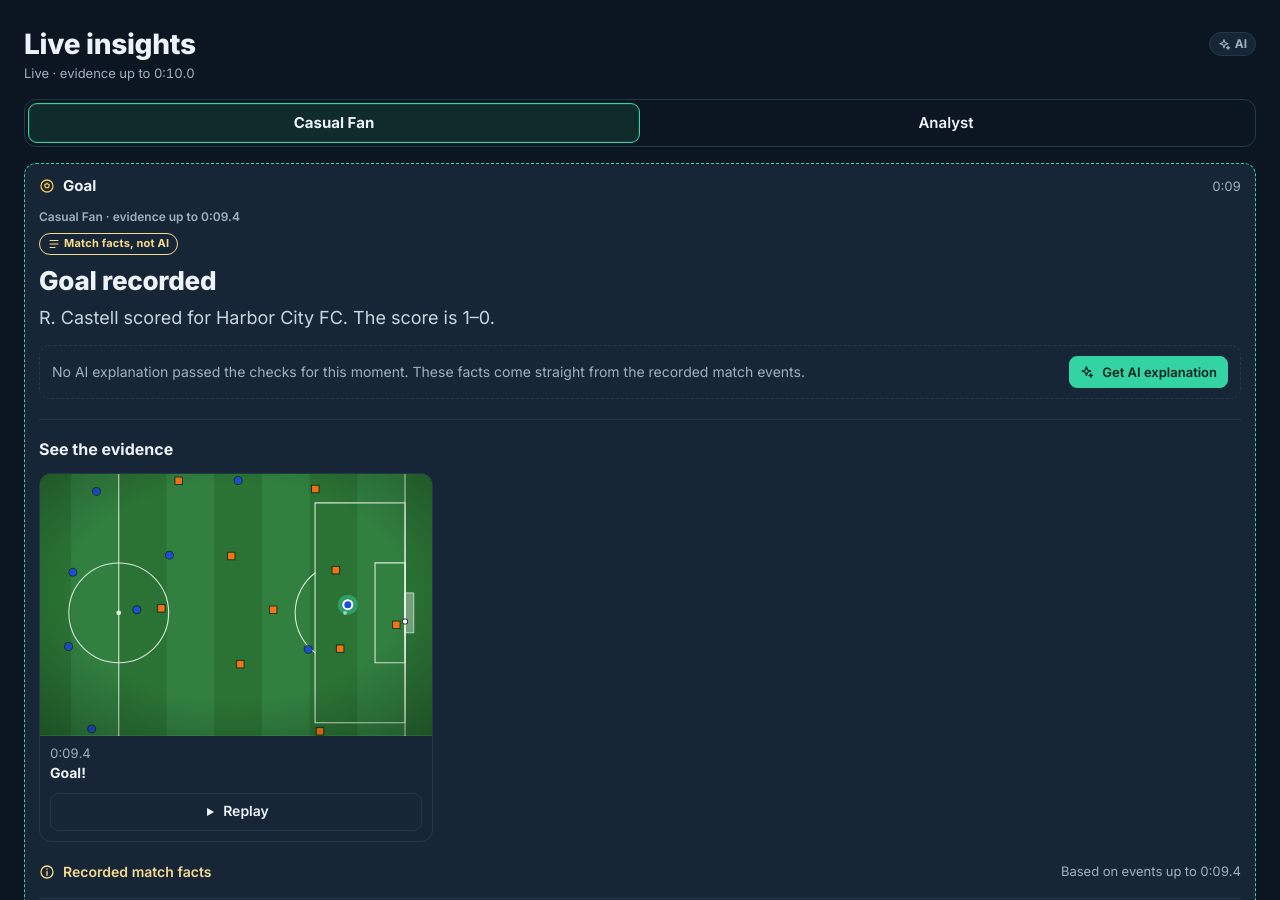
Test: live insights › shows recorded match facts as a separate kind of card, not an AI insight, until an AI answer replaces them
Click the button with class "insight__head": (80, 186) x1=25 y1=164 x2=1255 y2=208
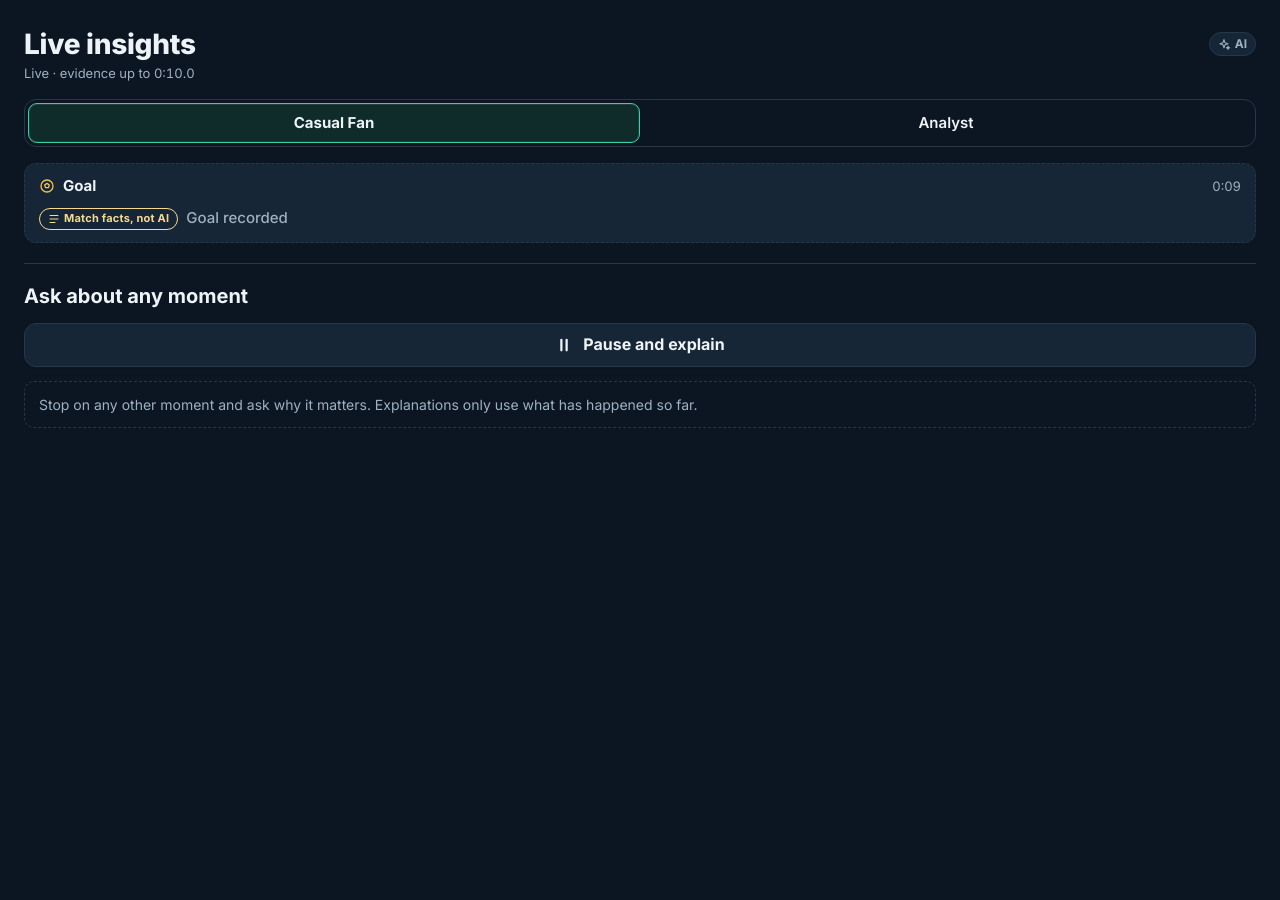
Click the button with class "insight__head": (80, 186) x1=25 y1=164 x2=1255 y2=208
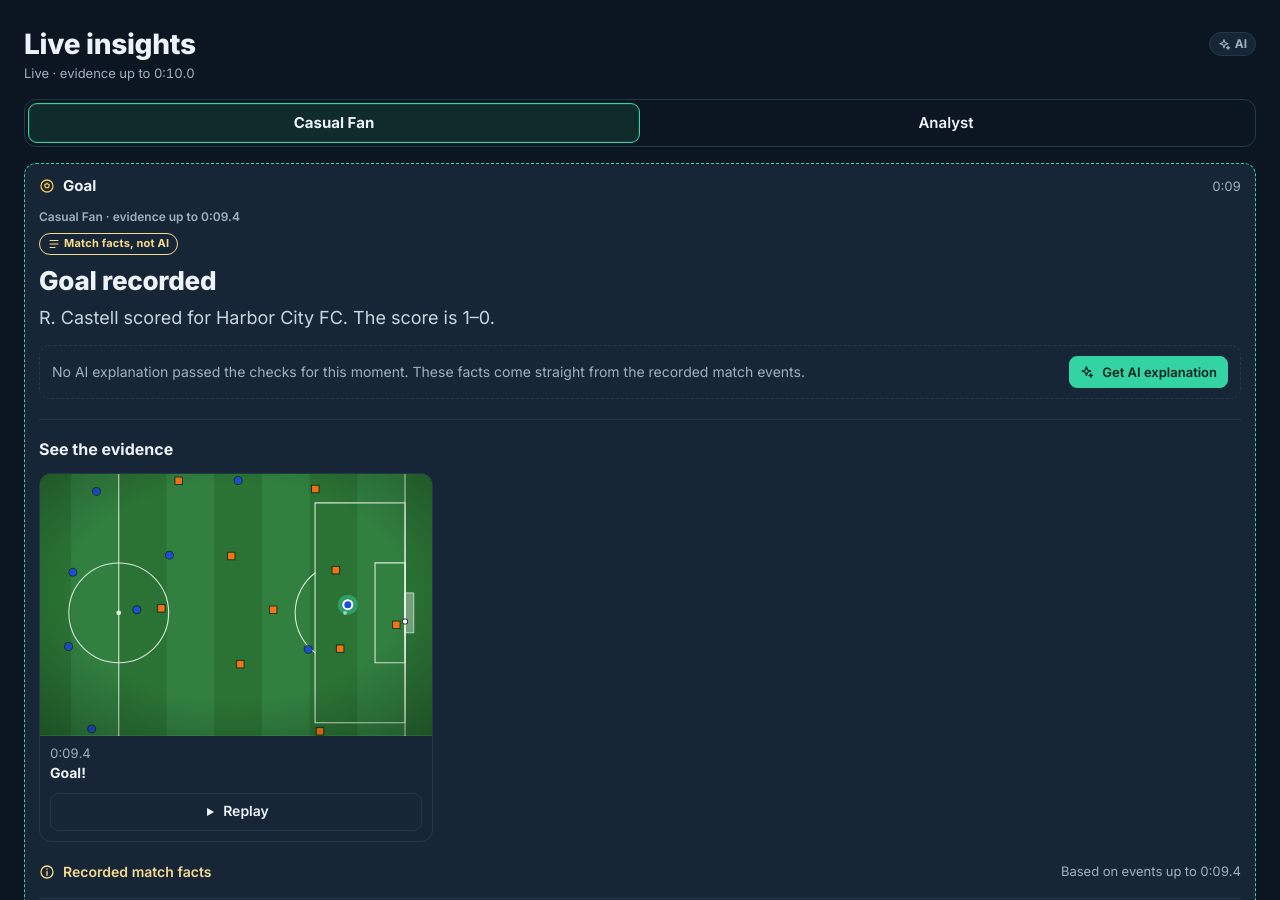
Click the button "Get AI explanation": (1149, 372) x1=1069 y1=356 x2=1228 y2=388
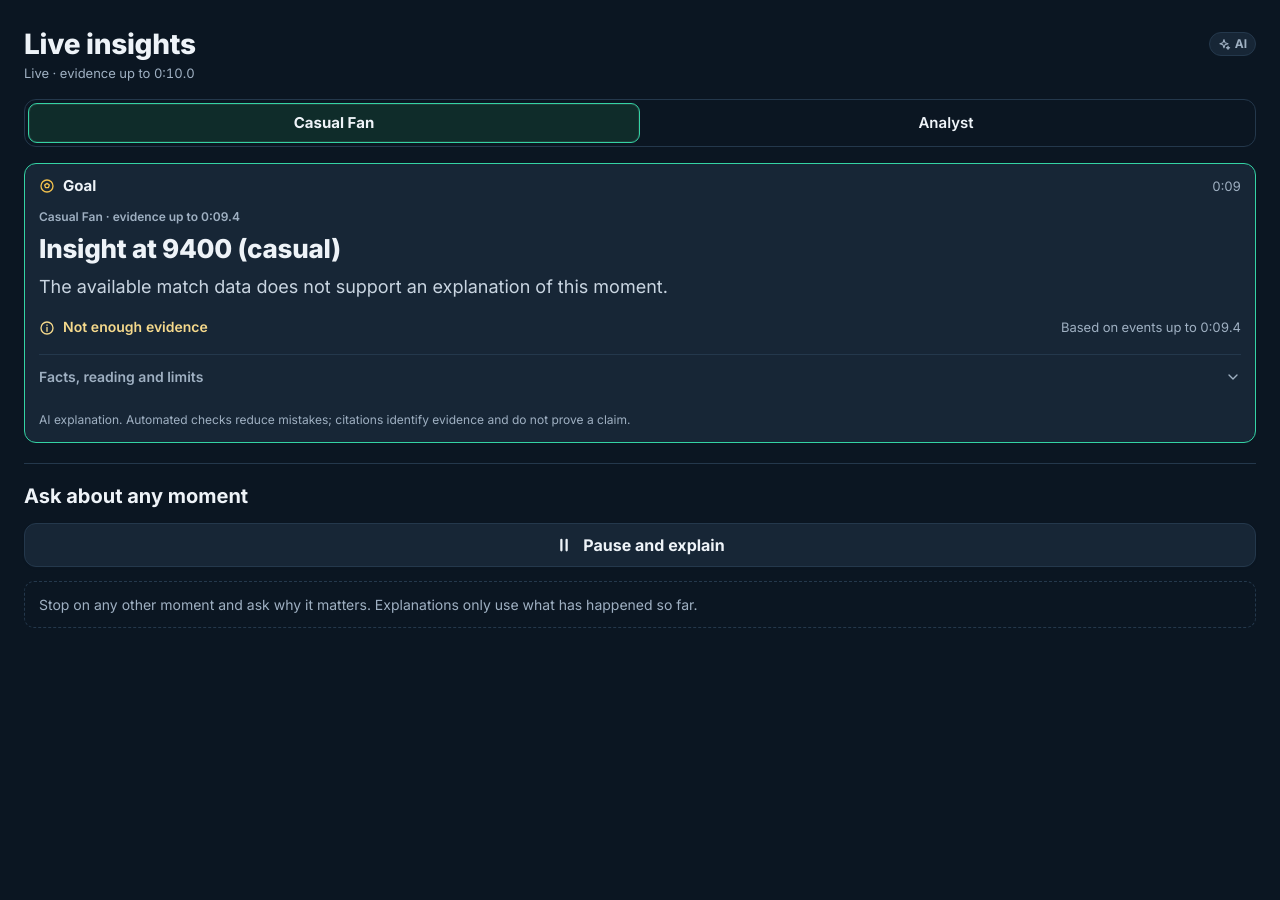
Expected: the element with class "insights" no longer shows "Match facts, not AI"
